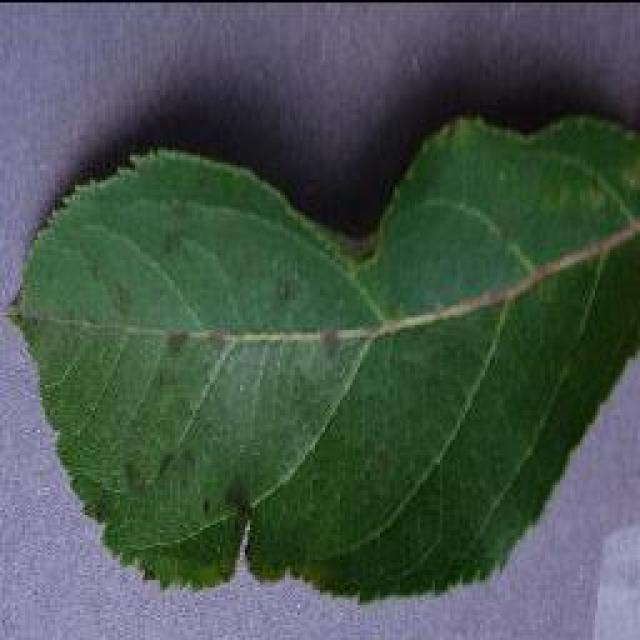apple scab disease: (2, 105, 638, 603)
